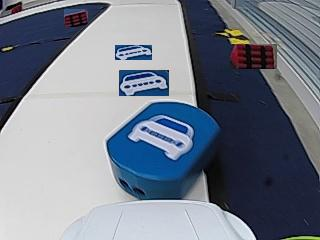safety: (129, 113, 194, 159)
